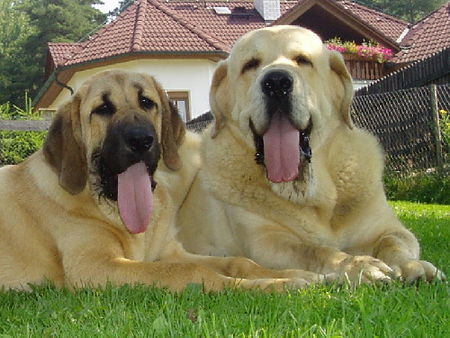mastin_espanol: (0, 67, 342, 296), (178, 23, 445, 285)
